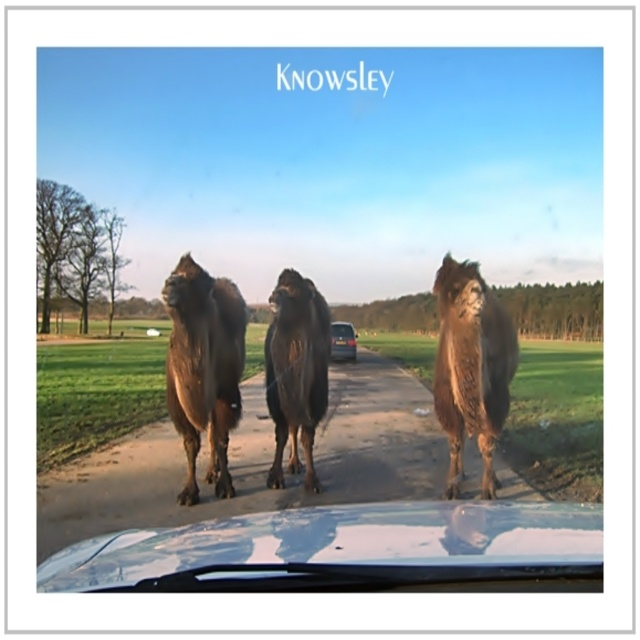Camel: (431, 252, 524, 503), (165, 246, 249, 506), (266, 266, 334, 488)
